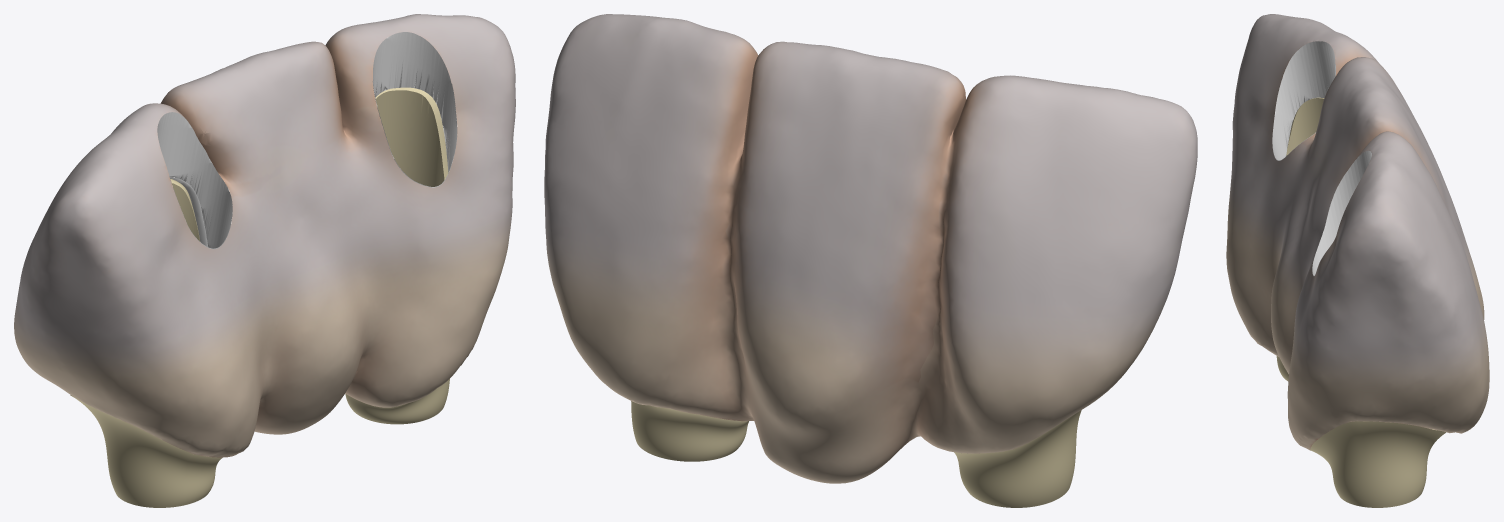
The model's file is last-v2.glb.
3 renders of one model, left to right at view 1: azimuth 30°, elevation 25°; view 2: azimuth 150°, elevation 25°; view 3: azimuth 270°, elevation 25°, orthographic. The views are drawn at different scales.
Parts seen in each view (by area): view 1: crown_outer, abutment, crown_inner; view 2: crown_outer, abutment; view 3: crown_outer, abutment, crown_inner.
Part boxes in pixels (x1=…): crown_outer: x1=14, y1=14, x2=515, y2=457; abutment: x1=70, y1=87, x2=449, y2=507; crown_inner: x1=157, y1=32, x2=457, y2=249; crown_outer: x1=544, y1=14, x2=1197, y2=483; abutment: x1=631, y1=401, x2=1081, y2=507; crown_outer: x1=1226, y1=14, x2=1489, y2=450; abutment: x1=1276, y1=97, x2=1445, y2=507; crown_inner: x1=1272, y1=41, x2=1371, y2=275.
Size of the model in its own units: 17.05 by 12.17 by 8.46.
Materials: 3 (1 with a texture image).
